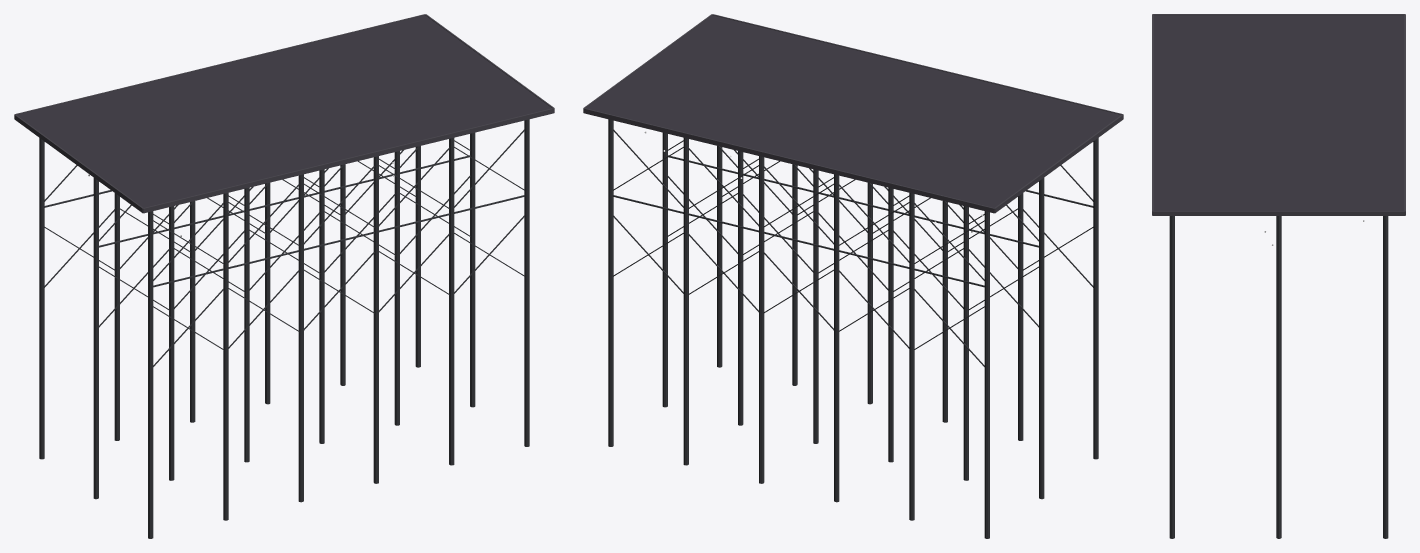
Rendered from cond_platform.glb.
3 views of the same model, side by side, from view 1: azimuth 30°, elevation 25°; view 2: azimuth 150°, elevation 25°; view 3: azimuth 270°, elevation 25° (orthographic).
Parts seen in each view (by area): view 1: cond_platform; view 2: cond_platform; view 3: cond_platform.
Boxes of the visible parts, x1=… form: cond_platform: x1=14, y1=14, x2=554, y2=538; cond_platform: x1=583, y1=14, x2=1123, y2=538; cond_platform: x1=1152, y1=14, x2=1405, y2=538.
Bounding box in the file's own units: 241 × 190 × 131.
4 materials, 1 textured.
